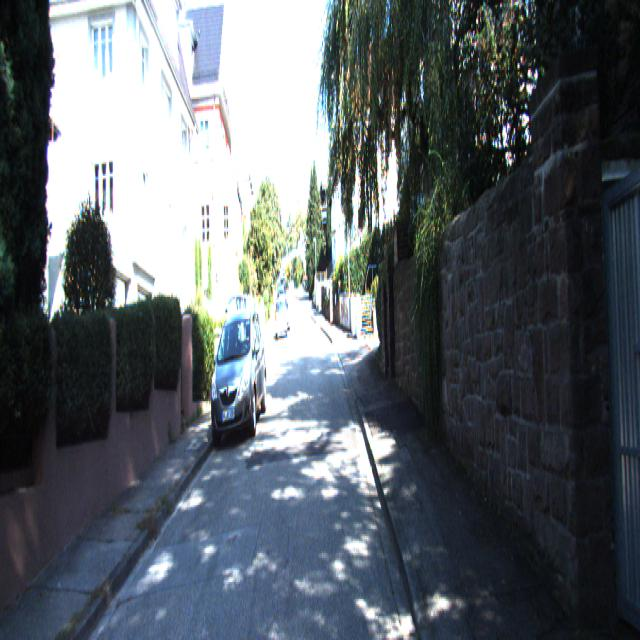Car: (208, 315, 268, 446), (274, 296, 288, 339)
